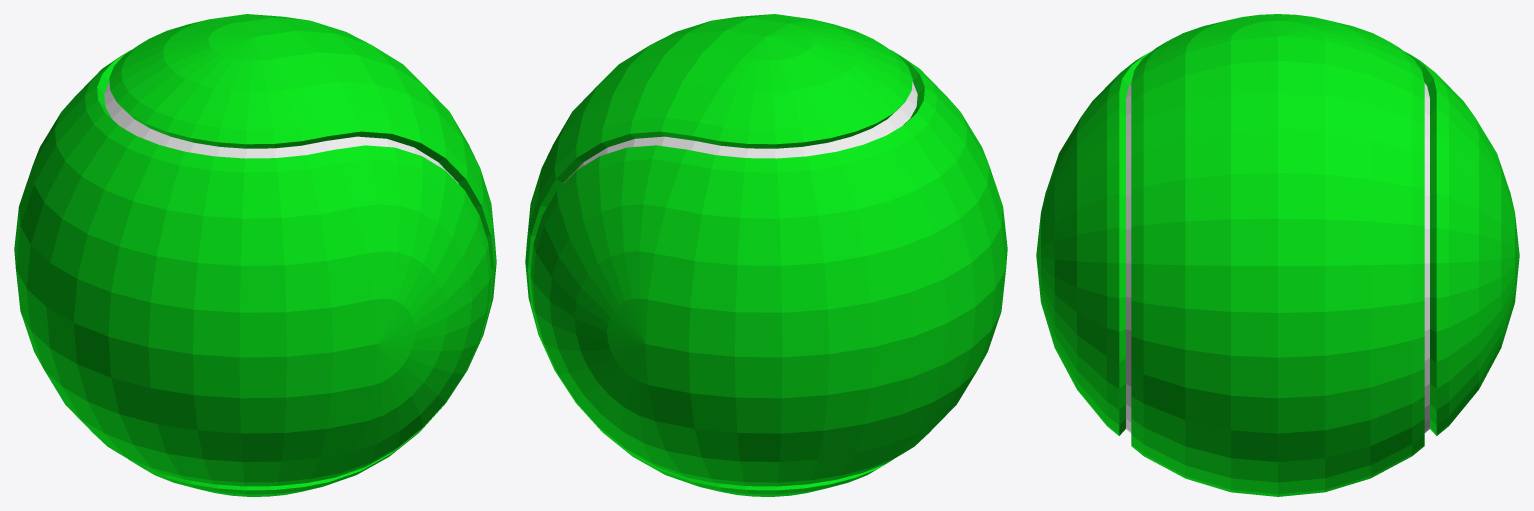
File: Tennisball.glb
3 renders of one model, left to right at view 1: azimuth 30°, elevation 25°; view 2: azimuth 150°, elevation 25°; view 3: azimuth 270°, elevation 25°, orthographic.
Visible parts, largest first — view 1: tennisball; view 2: tennisball; view 3: tennisball.
Part boxes in pixels (bbox=[...]): tennisball: bbox=[14, 14, 496, 496]; tennisball: bbox=[525, 14, 1007, 496]; tennisball: bbox=[1036, 14, 1519, 496].
Bounding box in the file's own units: 0.1664 × 0.1664 × 0.1664.
